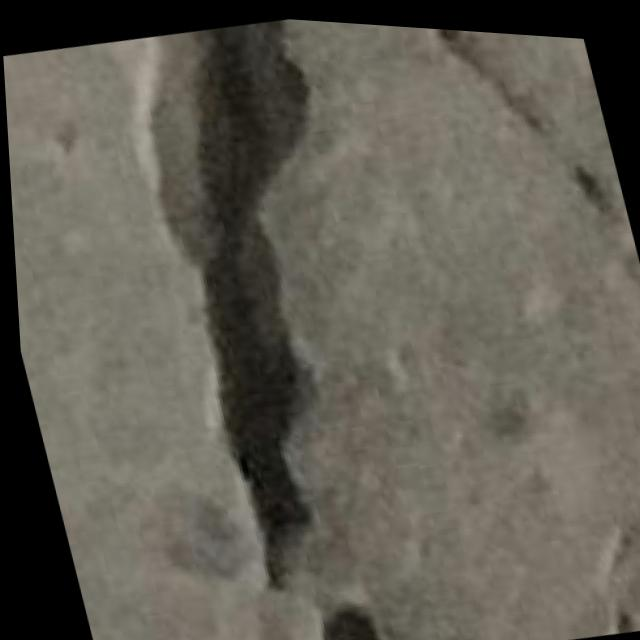Crack: (99, 5, 459, 640), (418, 22, 613, 238)
